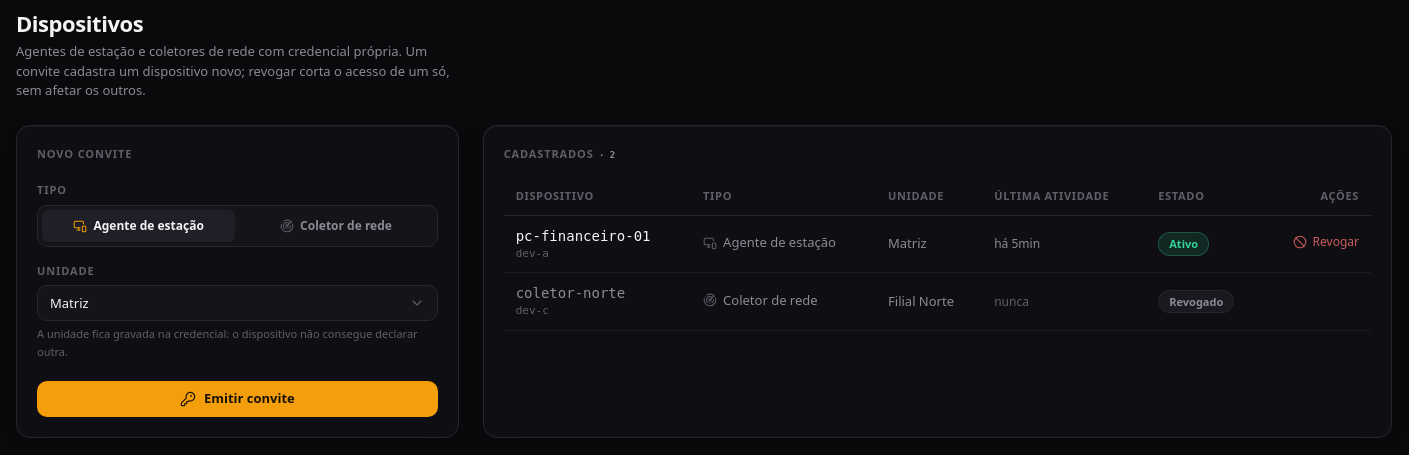
DevicesView › revoga com confirmação e recarrega a lista
The width and height of the screenshot is (1409, 455).
Click the button "Revogar" at (1326, 242), box [1293,234,1359,250]
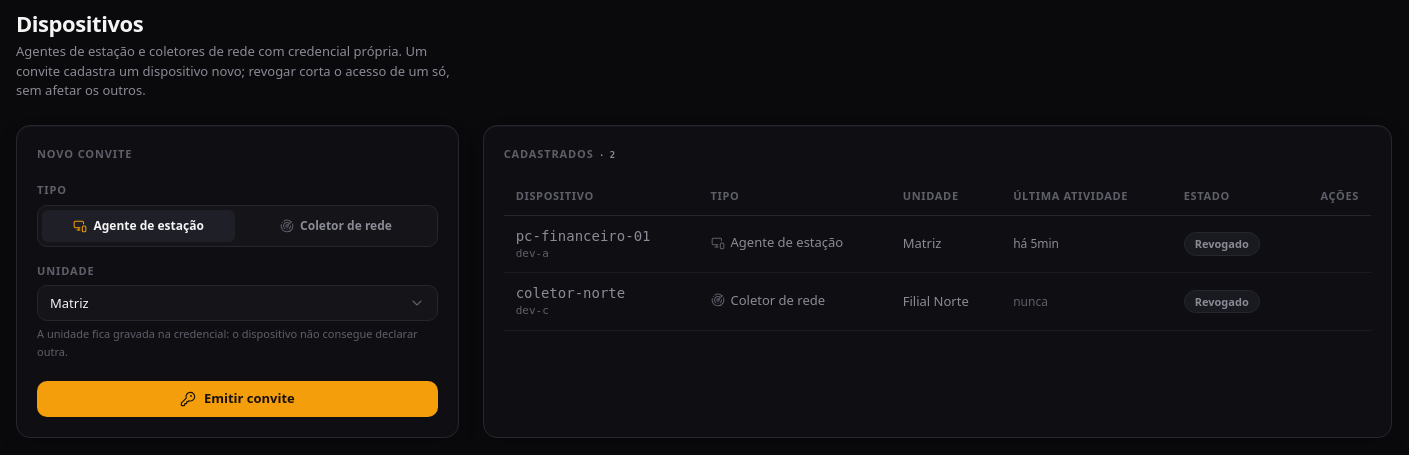
Expected: the text "Revogado" in the row of "pc-financeiro-01" is shown, [1195,236,1249,251]
